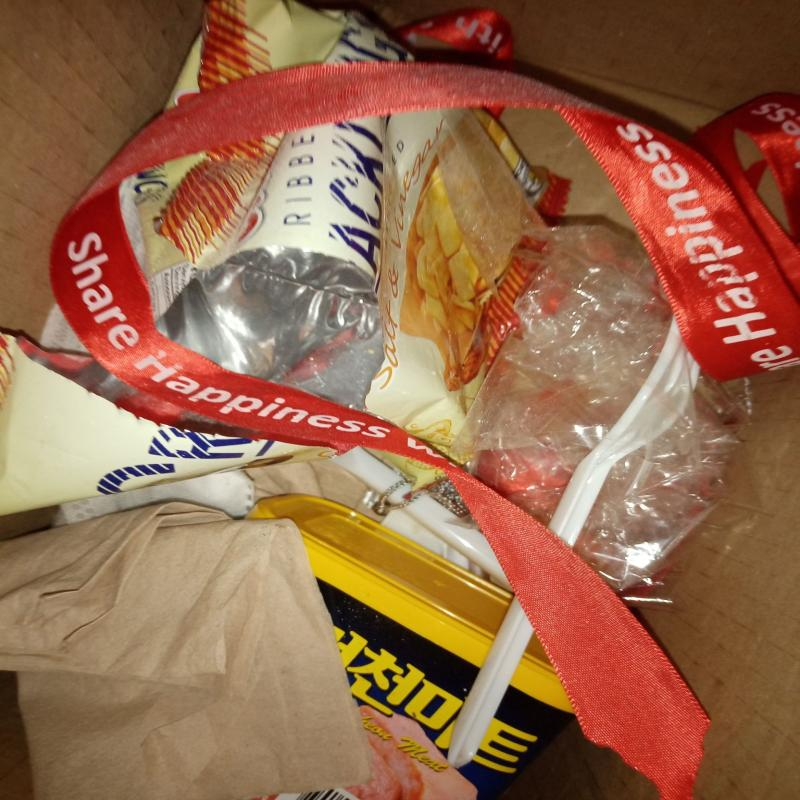food wrapper: (120, 108, 572, 451), (0, 330, 339, 508), (165, 0, 415, 111)
paper: (0, 500, 374, 800)
plastic bag: (474, 219, 719, 592)
plastic container: (246, 495, 576, 800)
